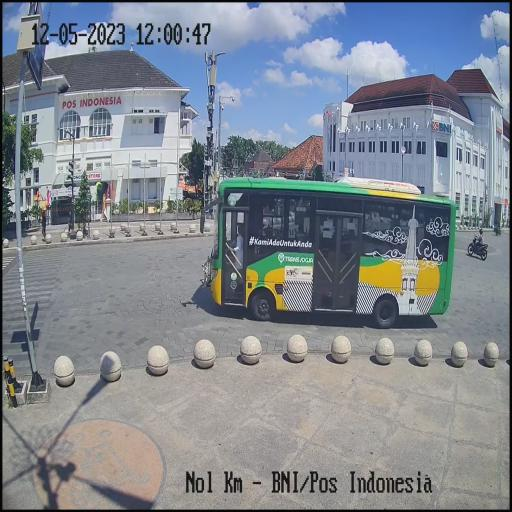mobil: (208, 167, 458, 326)
